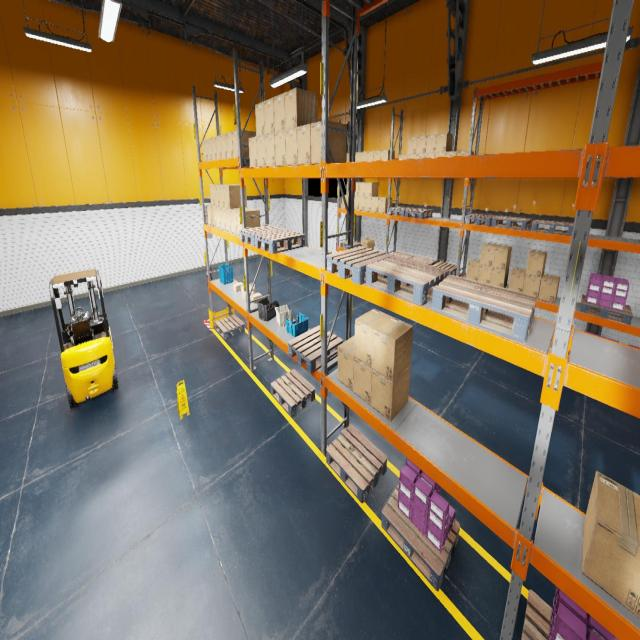box: (582, 471, 640, 618), (372, 316, 413, 382), (354, 308, 392, 368), (371, 364, 410, 422), (310, 120, 346, 164), (284, 88, 318, 129), (353, 357, 372, 405), (338, 336, 354, 391), (232, 130, 256, 158), (538, 274, 560, 303), (236, 208, 260, 234), (230, 207, 252, 234), (297, 124, 311, 165), (526, 250, 547, 277), (223, 185, 247, 208), (492, 244, 512, 270), (523, 274, 543, 299), (286, 128, 298, 166), (508, 267, 526, 292), (274, 92, 285, 132), (274, 130, 286, 166), (480, 243, 498, 267), (218, 185, 236, 208), (214, 184, 232, 207), (264, 97, 274, 135), (490, 267, 509, 287), (255, 102, 265, 136), (265, 132, 275, 166), (256, 135, 266, 167), (466, 259, 480, 281), (436, 133, 452, 152), (478, 264, 492, 284), (249, 136, 257, 168), (378, 196, 392, 212), (365, 182, 378, 197), (426, 134, 436, 153), (416, 135, 426, 154), (226, 132, 233, 158), (220, 133, 227, 159), (358, 182, 371, 196), (371, 197, 383, 212), (407, 136, 417, 154), (215, 135, 222, 160), (210, 136, 217, 160), (361, 238, 375, 250), (380, 149, 394, 160), (225, 208, 231, 232), (206, 138, 212, 161), (220, 207, 226, 230), (202, 139, 208, 161), (215, 206, 221, 228), (209, 184, 215, 206), (250, 293, 262, 303), (243, 291, 254, 301), (243, 283, 254, 293), (207, 204, 212, 225), (234, 282, 244, 292), (211, 206, 216, 226), (358, 197, 365, 210), (373, 150, 381, 161), (365, 197, 371, 211), (241, 284, 251, 292), (341, 195, 347, 208), (354, 182, 360, 195), (445, 151, 457, 157), (457, 151, 473, 155), (360, 152, 367, 161), (367, 151, 373, 161), (354, 196, 358, 210), (425, 153, 435, 158), (435, 152, 445, 157), (355, 152, 360, 161), (416, 154, 425, 158), (407, 154, 416, 158), (399, 154, 407, 158), (346, 153, 348, 162), (347, 182, 348, 195), (347, 195, 348, 207), (348, 153, 349, 162)
forklift: (49, 268, 118, 408)
pallets: (381, 484, 460, 591), (431, 274, 536, 343), (326, 424, 387, 503), (366, 256, 449, 305), (288, 326, 342, 374), (326, 246, 394, 284), (271, 369, 315, 417), (580, 295, 632, 324), (521, 589, 551, 639), (254, 229, 305, 254), (239, 225, 285, 246), (214, 314, 245, 339), (531, 220, 574, 236), (492, 216, 532, 230), (465, 213, 499, 226), (432, 261, 457, 275), (404, 208, 432, 219), (408, 255, 437, 265), (388, 207, 414, 216), (340, 240, 362, 249), (391, 252, 414, 258), (548, 344, 552, 354), (568, 350, 570, 362)
